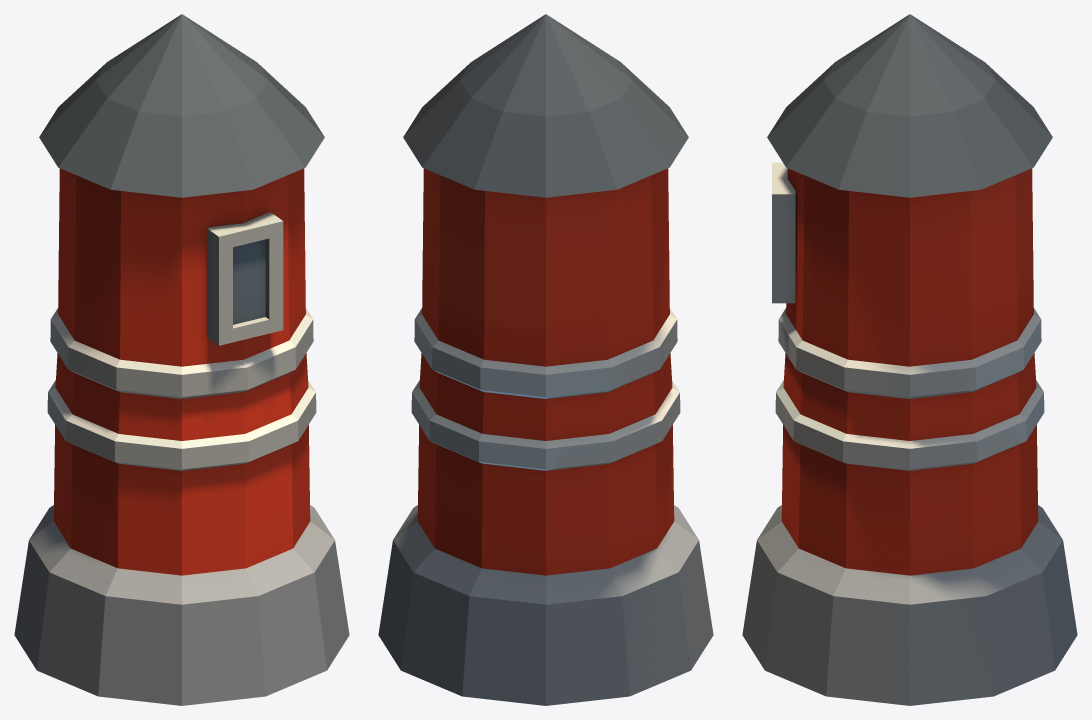
Rendered from 4405f313-d818-49d2-b412-6a60faa375df.glb.
3 views of the same model, side by side, from view 1: azimuth 30°, elevation 25°; view 2: azimuth 150°, elevation 25°; view 3: azimuth 270°, elevation 25° (orthographic).
Parts seen in each view (by area): view 1: silo; view 2: silo; view 3: silo.
Part boxes in pixels (x1,y1,x2,y2): silo: [14, 14, 349, 705]; silo: [378, 14, 713, 705]; silo: [742, 14, 1077, 705].
Bounding box in the file's own units: 1.13 × 2.3 × 1.13.
1 material, 1 textured.
